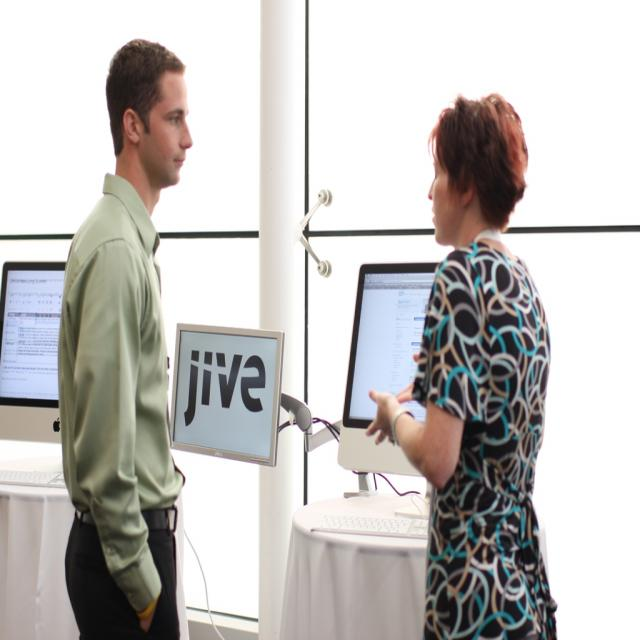desk: (290, 492, 428, 640)
keyboard: (299, 500, 429, 541)
laptop: (337, 262, 442, 482)
person: (364, 91, 554, 633), (58, 43, 196, 629)
tv: (337, 264, 440, 474), (0, 260, 70, 408)
